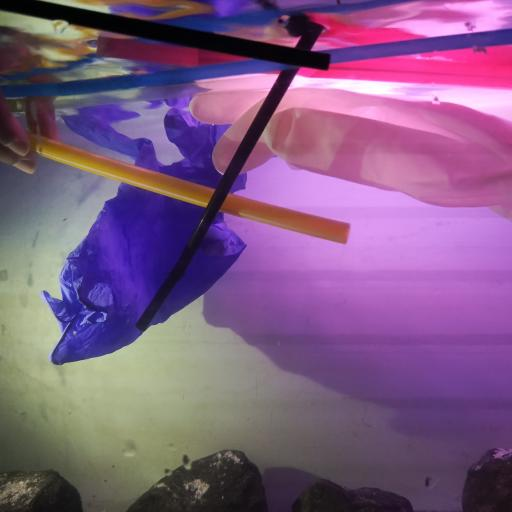glove: (41, 108, 247, 366), (188, 86, 512, 220)
plastic_straw: (136, 20, 323, 330), (26, 130, 350, 246), (0, 28, 512, 101), (2, 0, 333, 72), (92, 33, 512, 80)
